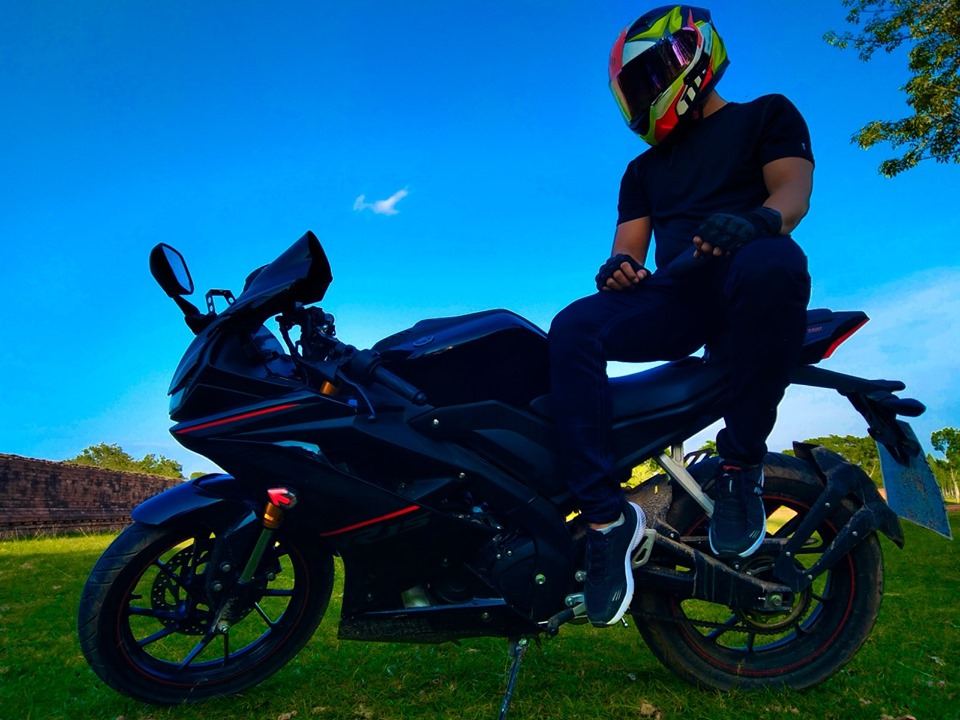bike: (82, 227, 934, 706)
